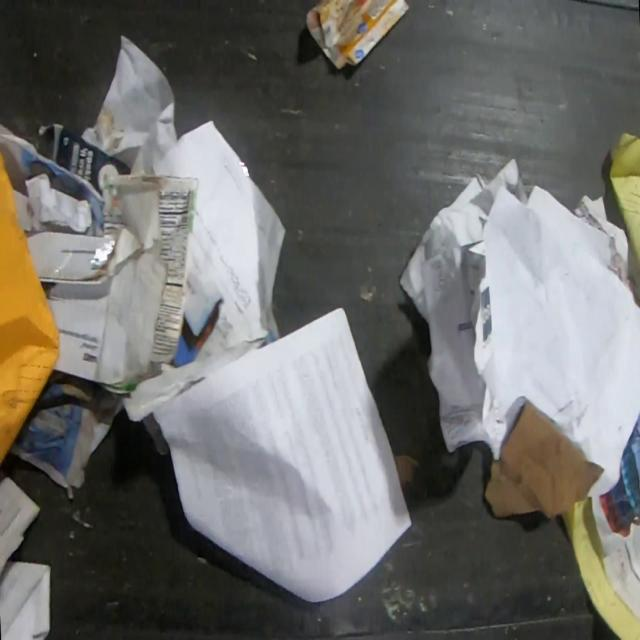cardboard: (24, 173, 199, 392), (0, 149, 60, 468), (481, 399, 608, 519), (303, 0, 411, 72)
